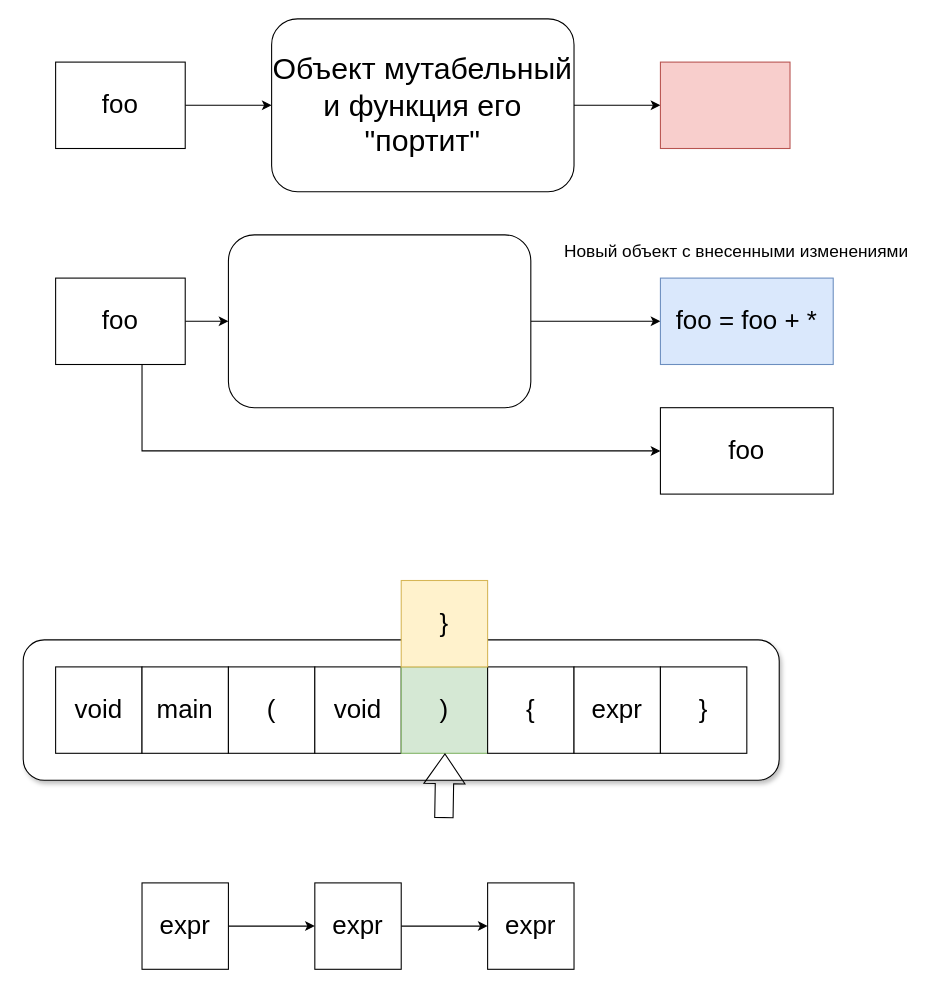
Some shapes in this 939 by 988 pixel diagram are drawn without their labels. Each missing label, with the centre of its shape:
"foo*" goes at point 724,104.
"Функция возвращает новый объект с + *" goes at point 379,321.
